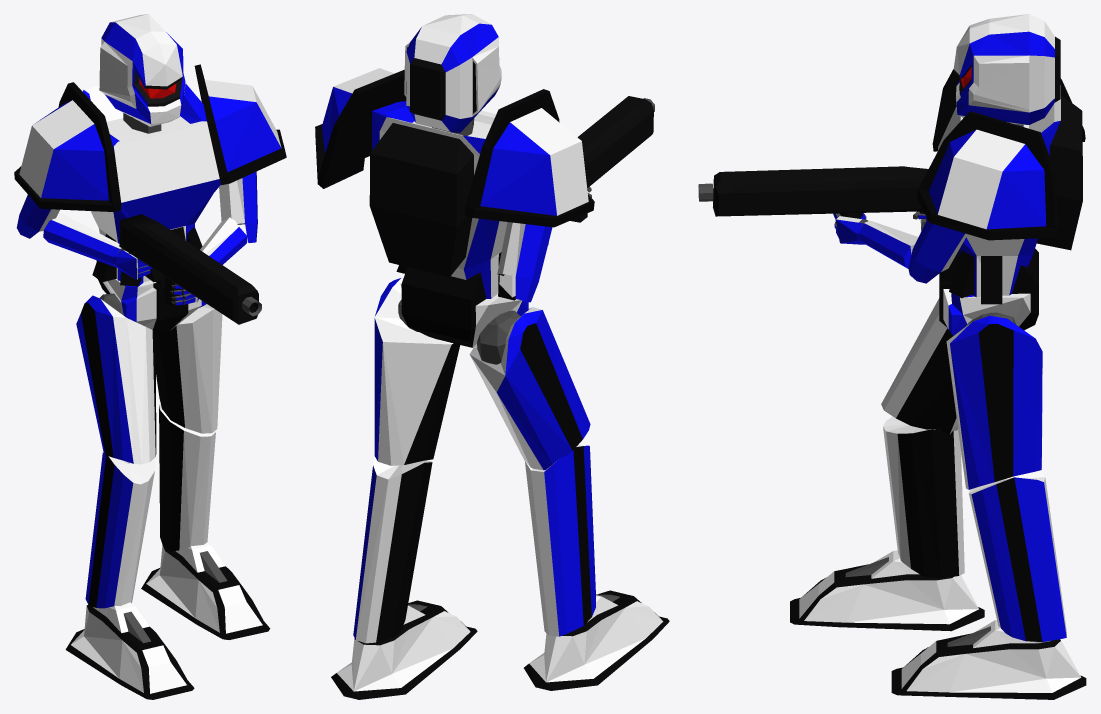
File: robots_000008.obj
3 renders of one model, left to right at view 1: azimuth 30°, elevation 25°; view 2: azimuth 150°, elevation 25°; view 3: azimuth 270°, elevation 25°, orthographic. The views are drawn at different scales.
Visible parts, largest first — view 1: Chest_plate_Cube.004, R_Thigh_Cube.005, Cube.002_Cube.059, Head_base_Cube.022, R_Shin_Cube.007, R_Foot_Cube, R_Foot.002_Cube.035, R_Thigh.002_Cube.027, Cube_Cube.001, R_Shin.002_Cube.029, Cube_Cube.021, Pelvis_Cube.006 (+5 smaller); view 2: Chest_plate_Cube.004, Cube.002_Cube.059, R_Thigh.002_Cube.027, R_Thigh_Cube.005, R_Shin_Cube.007, R_Shin.002_Cube.029, Head_base_Cube.022, R_Foot_Cube, R_Foot.002_Cube.035, Cube_Cube.021, Pelvis_Cube.006, Cube_Cube.001 (+2 smaller); view 3: Cube_Cube.021, R_Thigh.002_Cube.027, R_Shin.002_Cube.029, R_Shin_Cube.007, R_Foot.002_Cube.035, R_Foot_Cube, Head_base_Cube.022, Cube_Cube.001, Chest_plate_Cube.004, R_Thigh_Cube.005, Pelvis_Cube.006, L_Arm_Cube.014 (+3 smaller).
Boxes of the visible parts, x1=… form: Chest_plate_Cube.004: x1=82, y1=84, x2=220, y2=286; R_Thigh_Cube.005: x1=76, y1=295, x2=156, y2=464; Cube.002_Cube.059: x1=14, y1=82, x2=121, y2=211; Head_base_Cube.022: x1=99, y1=14, x2=185, y2=126; R_Shin_Cube.007: x1=85, y1=452, x2=155, y2=608; R_Foot_Cube: x1=65, y1=602, x2=194, y2=699; R_Foot.002_Cube.035: x1=141, y1=542, x2=270, y2=639; R_Thigh.002_Cube.027: x1=155, y1=304, x2=222, y2=433; Cube_Cube.001: x1=119, y1=214, x2=261, y2=324; R_Shin.002_Cube.029: x1=159, y1=404, x2=215, y2=551; Cube_Cube.021: x1=194, y1=64, x2=286, y2=184; Pelvis_Cube.006: x1=96, y1=260, x2=206, y2=334; Chest_plate_Cube.004: x1=369, y1=101, x2=515, y2=300; Cube.002_Cube.059: x1=464, y1=89, x2=594, y2=227; R_Thigh.002_Cube.027: x1=374, y1=277, x2=460, y2=465; R_Thigh_Cube.005: x1=469, y1=307, x2=590, y2=470; R_Shin_Cube.007: x1=524, y1=445, x2=595, y2=636; R_Shin.002_Cube.029: x1=353, y1=457, x2=432, y2=643; Head_base_Cube.022: x1=404, y1=14, x2=501, y2=132; R_Foot_Cube: x1=524, y1=590, x2=669, y2=690; R_Foot.002_Cube.035: x1=331, y1=600, x2=477, y2=699; Cube_Cube.021: x1=315, y1=68, x2=406, y2=188; Pelvis_Cube.006: x1=400, y1=267, x2=528, y2=347; Cube_Cube.001: x1=570, y1=96, x2=654, y2=222; Cube_Cube.021: x1=917, y1=111, x2=1059, y2=240; R_Thigh.002_Cube.027: x1=946, y1=315, x2=1042, y2=489; R_Shin.002_Cube.029: x1=969, y1=470, x2=1066, y2=641; R_Shin_Cube.007: x1=883, y1=416, x2=964, y2=578; R_Foot.002_Cube.035: x1=891, y1=620, x2=1086, y2=699; R_Foot_Cube: x1=790, y1=550, x2=984, y2=631; Head_base_Cube.022: x1=953, y1=14, x2=1060, y2=124; Cube_Cube.001: x1=698, y1=166, x2=928, y2=220; Chest_plate_Cube.004: x1=938, y1=85, x2=1082, y2=304; R_Thigh_Cube.005: x1=881, y1=298, x2=1025, y2=434; Pelvis_Cube.006: x1=939, y1=248, x2=1038, y2=335; L_Arm_Cube.014: x1=908, y1=219, x2=967, y2=283.
Size of the model in its own units: 1.32 by 3.03 by 1.69.
